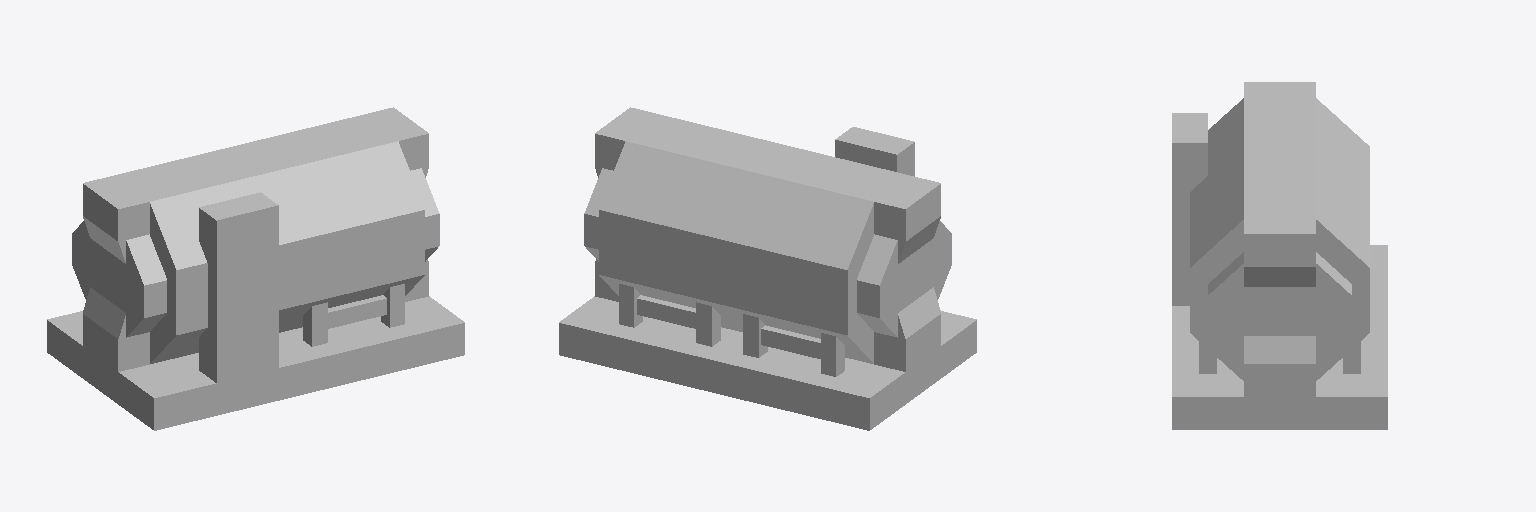
Rendered from heat_exchanger.obj.
3 renders of one model, left to right at view 1: azimuth 30°, elevation 25°; view 2: azimuth 150°, elevation 25°; view 3: azimuth 270°, elevation 25°, orthographic.
Parts seen in each view (by area): view 1: Heat_Exchanger_base; view 2: Heat_Exchanger_base; view 3: Heat_Exchanger_base.
Boxes of the visible parts, box(x1,y1,x2,y2) form: Heat_Exchanger_base: box(47, 107, 464, 430); Heat_Exchanger_base: box(559, 107, 976, 430); Heat_Exchanger_base: box(1172, 82, 1387, 429).
Size of the model in its own units: 5 by 3 by 3.